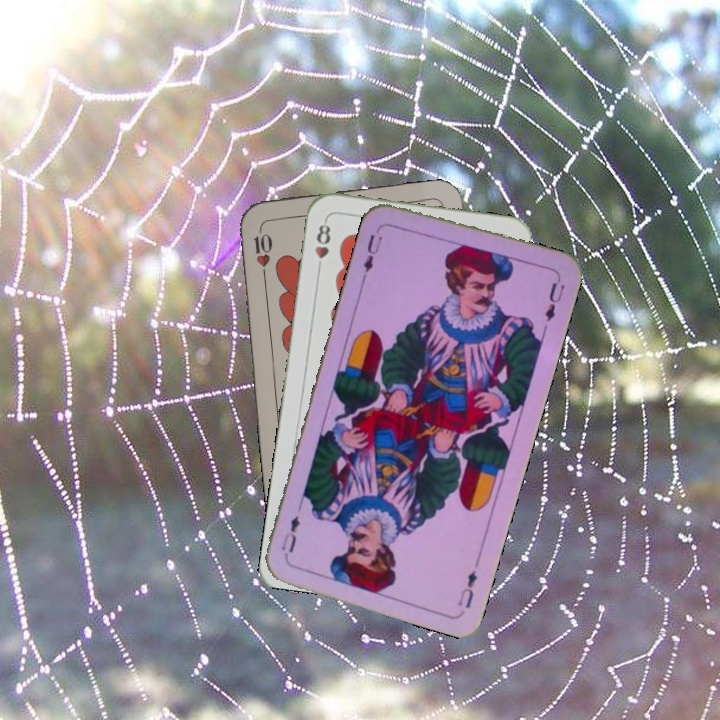EU: (358, 223, 385, 281), (454, 566, 480, 611)
H10: (250, 222, 273, 282)
H8: (311, 216, 333, 275)
